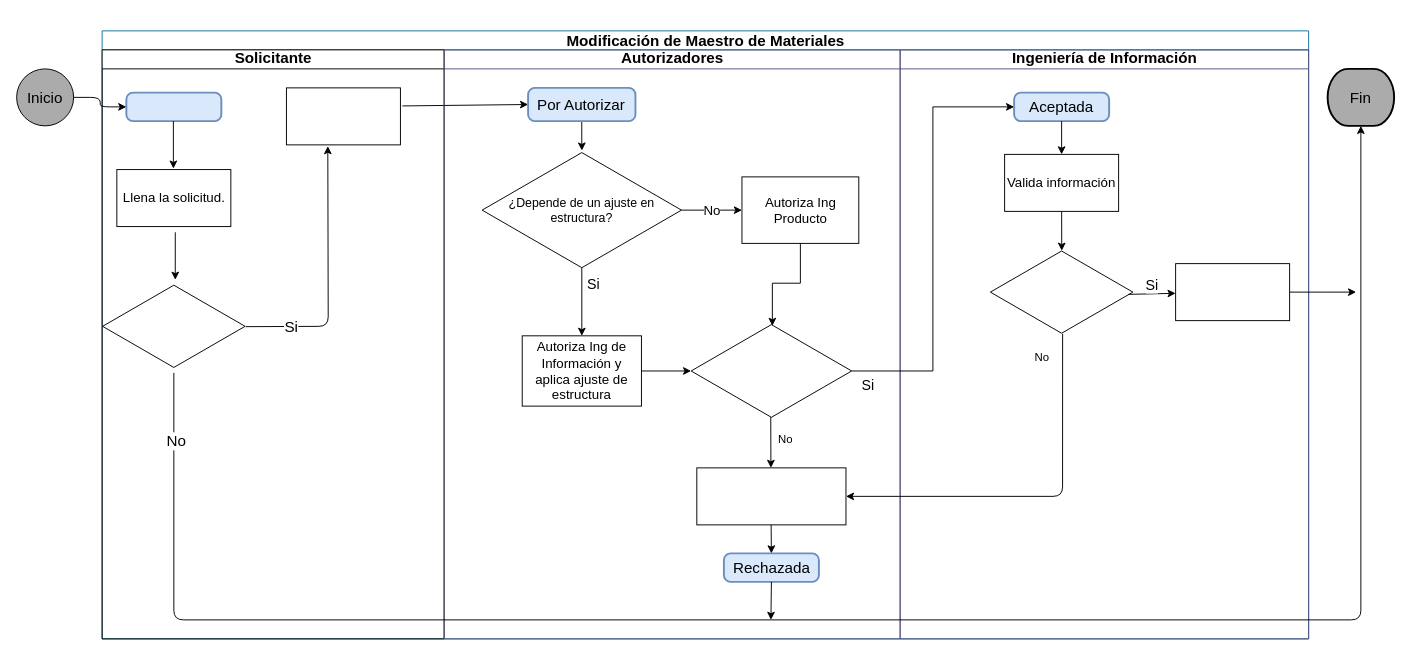
Image size: 1412x656. Some labels were removed from this diagram. The box of each missing label's shape, as (x1, y1, x2, y2) in pixels:
Borrador: (125, 91, 222, 122)
Guarda cambios: (285, 87, 400, 145)
Se agrega motivo y se cambia de estatus: (696, 467, 846, 525)
Se aplica el cambio en SAP.: (1175, 263, 1290, 321)
¿Autorizado?: (690, 322, 852, 419)
¿Requiere la solicitud?: (102, 283, 245, 369)
¿Solicitud correcta?: (989, 248, 1133, 335)
